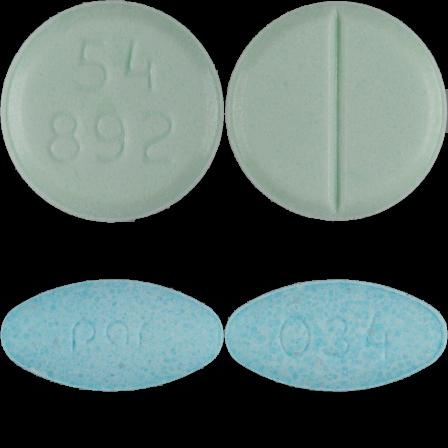21695-382: (0, 0, 224, 224)
